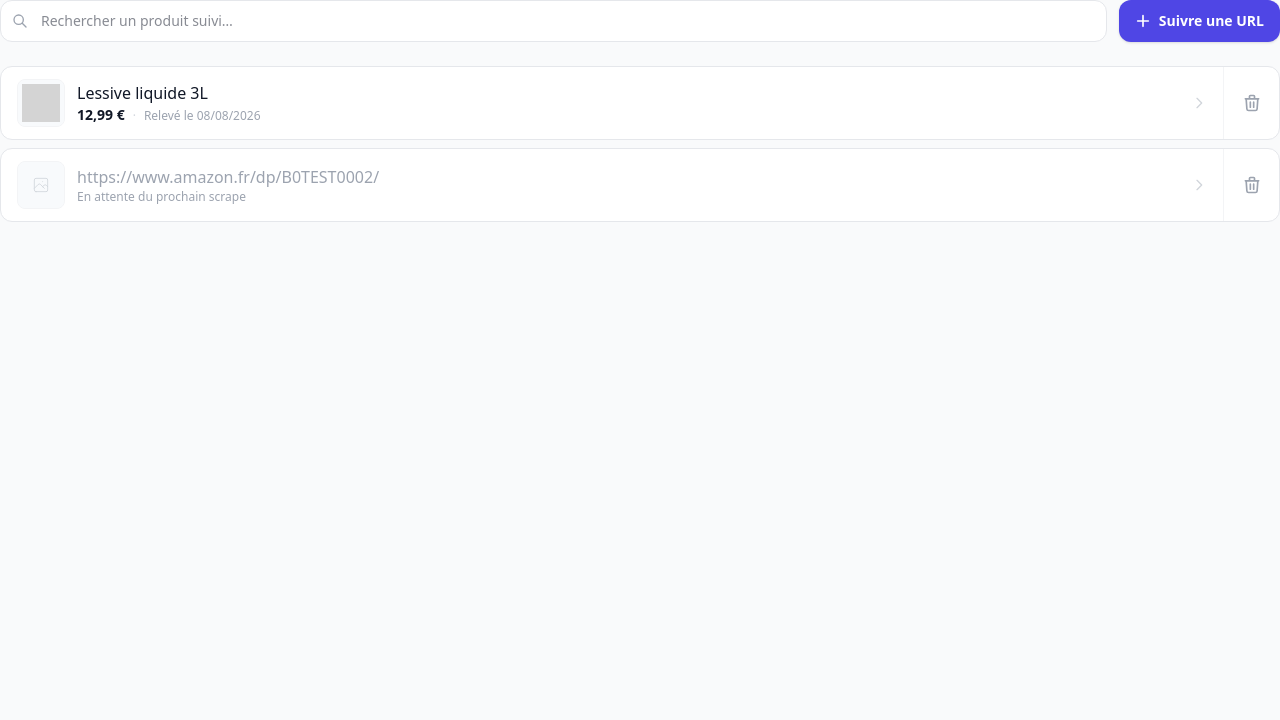
Scenario: TrackedUrlDashboard › retrait du suivi › renonce sur « Annuler »
The width and height of the screenshot is (1280, 720).
Step 1. Click the button named "Retirer du suivi Lessive liquide 3L" → (1251, 103), box [1223,67,1279,139]
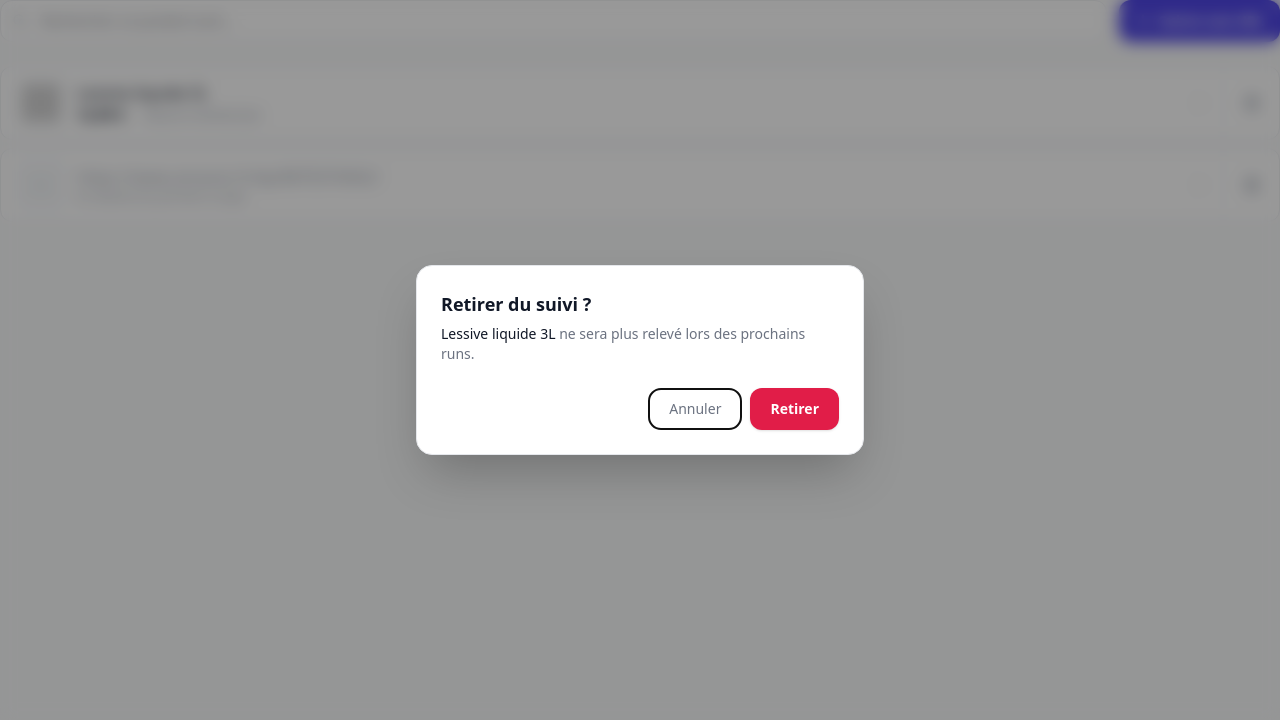
Step 2. Click the button "Annuler" → (695, 409), box [648,388,742,430]
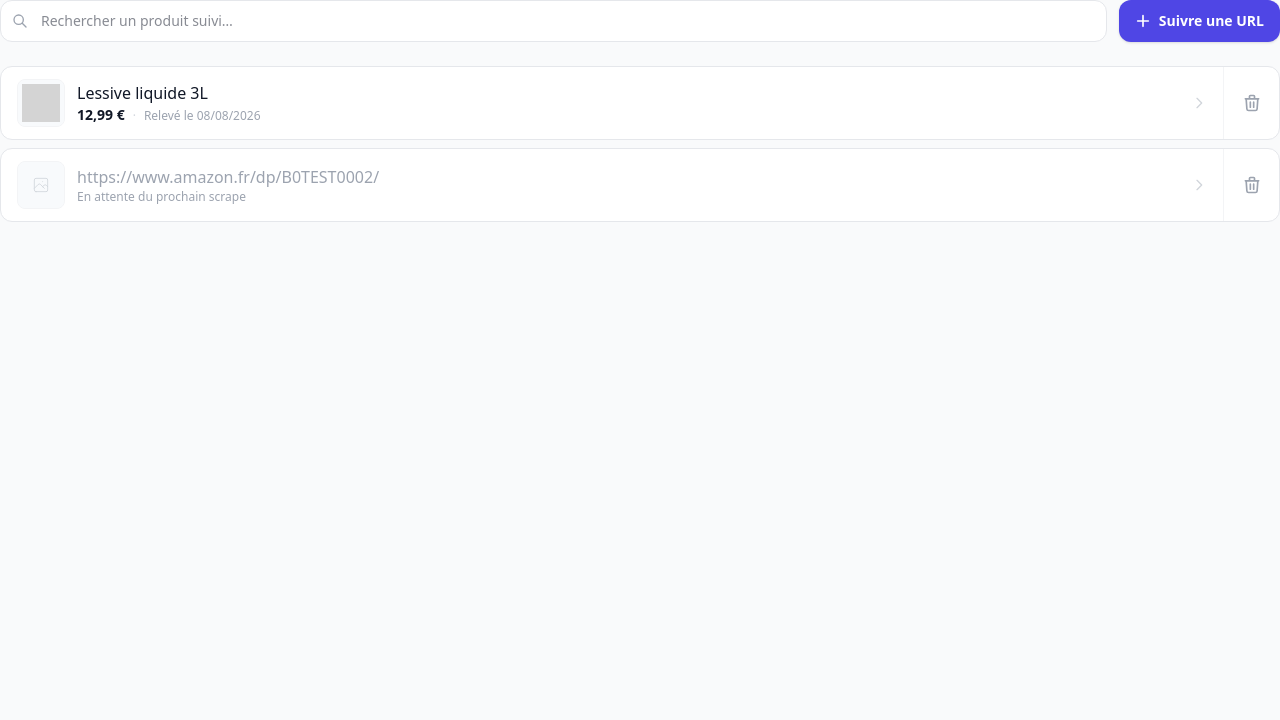
Expected: the dialog is gone
